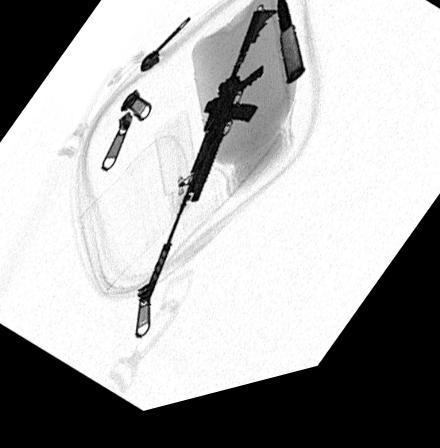Bullet: (275, 5, 303, 100)
Gun: (141, 23, 280, 308)
